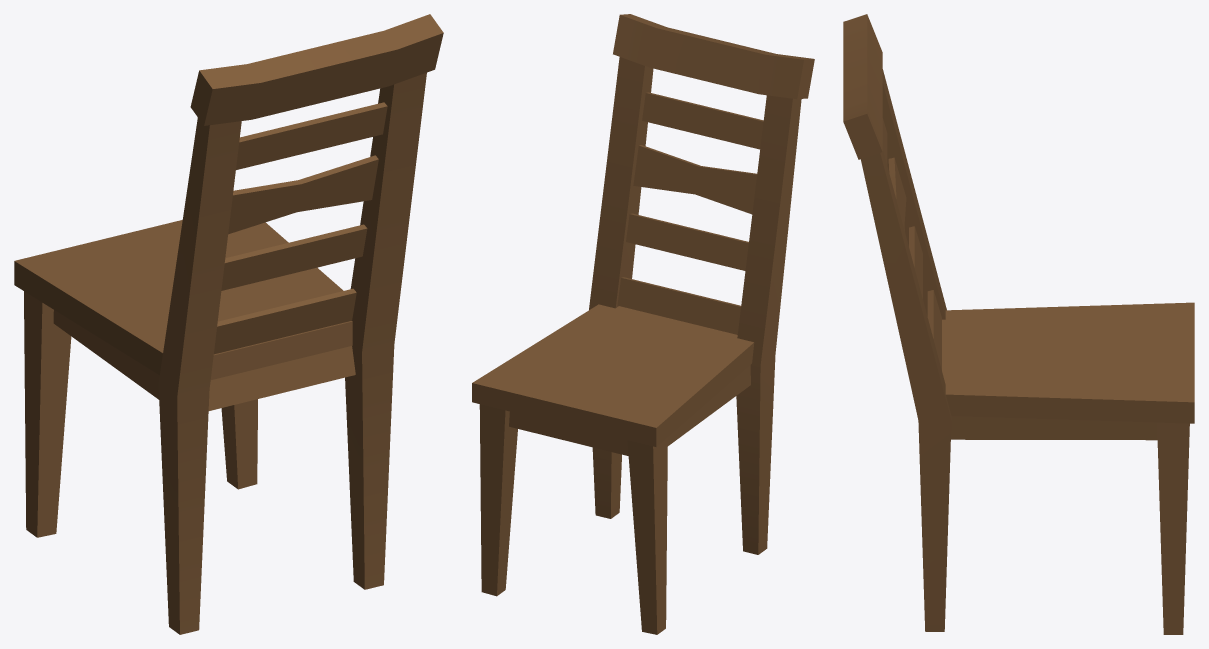
The model's file is Chair_2.fbx.
3 views of the same model, side by side, from view 1: azimuth 30°, elevation 25°; view 2: azimuth 150°, elevation 25°; view 3: azimuth 270°, elevation 25° (orthographic). The views are drawn at different scales.
Parts seen in each view (by area): view 1: polySurface1523; view 2: polySurface1523; view 3: polySurface1523.
Boxes of the visible parts, bbox=[...] form: polySurface1523: bbox=[14, 14, 443, 634]; polySurface1523: bbox=[472, 14, 814, 634]; polySurface1523: bbox=[843, 14, 1194, 634].
Bounding box in the file's own units: 0.5 × 1.22 × 0.7442.
1 material, 1 textured.
